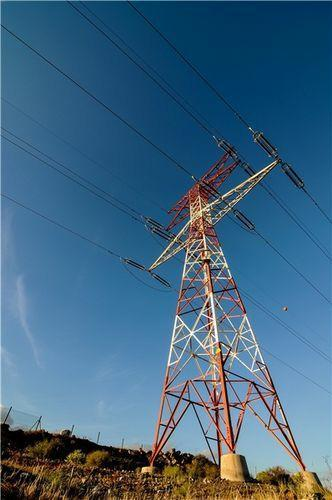power_tower: (112, 138, 316, 486)
